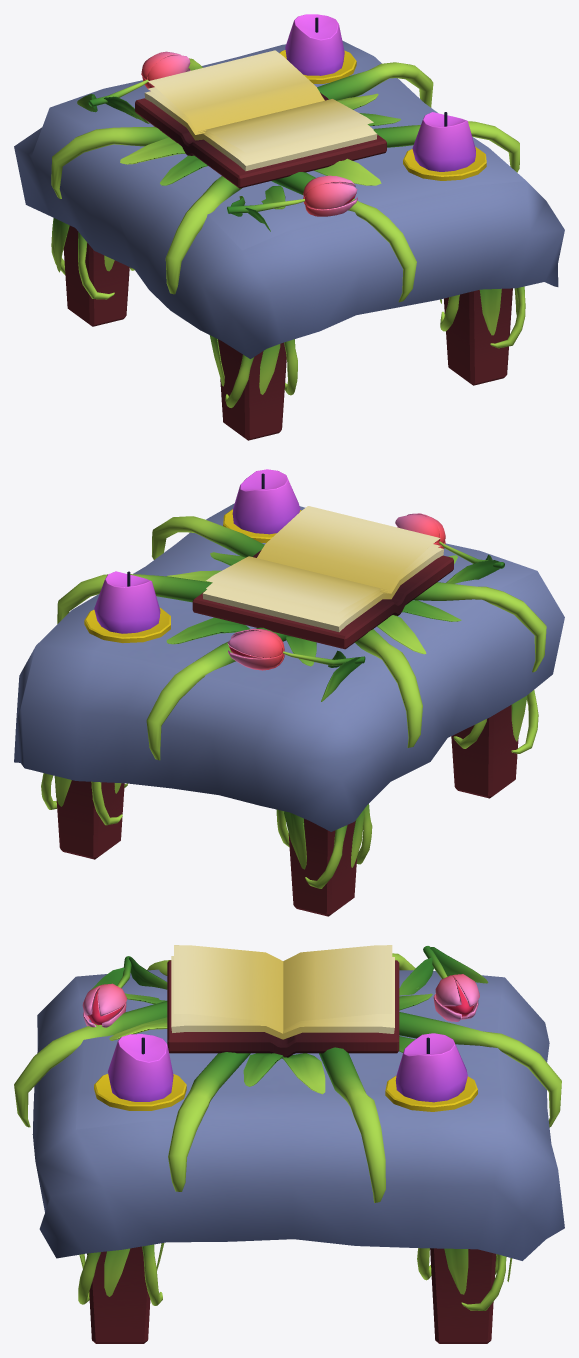
Rendered from spell_table_05.fbx.
3 views of the same model, one above another, from view 1: azimuth 30°, elevation 25°; view 2: azimuth 150°, elevation 25°; view 3: azimuth 270°, elevation 25° (orthographic). The views are drawn at different scales.
Visible parts, largest first — view 1: spell_table_05; view 2: spell_table_05; view 3: spell_table_05.
Boxes of the visible parts, box(x1,y1,x2,y2) form: spell_table_05: box(14, 14, 564, 440); spell_table_05: box(14, 469, 564, 916); spell_table_05: box(14, 945, 564, 1343).
Bounding box in the file's own units: 2.01 × 1.35 × 2.37.
